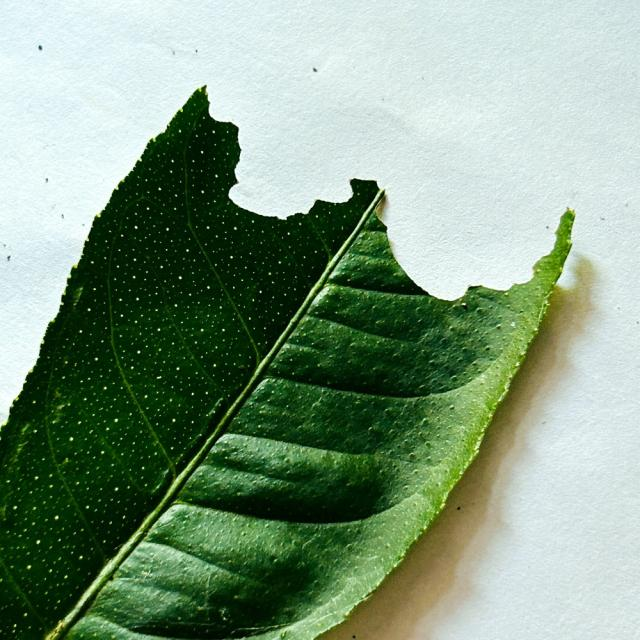Deficiency Leaf: (206, 84, 565, 292)
Lemon: (0, 90, 568, 639)
